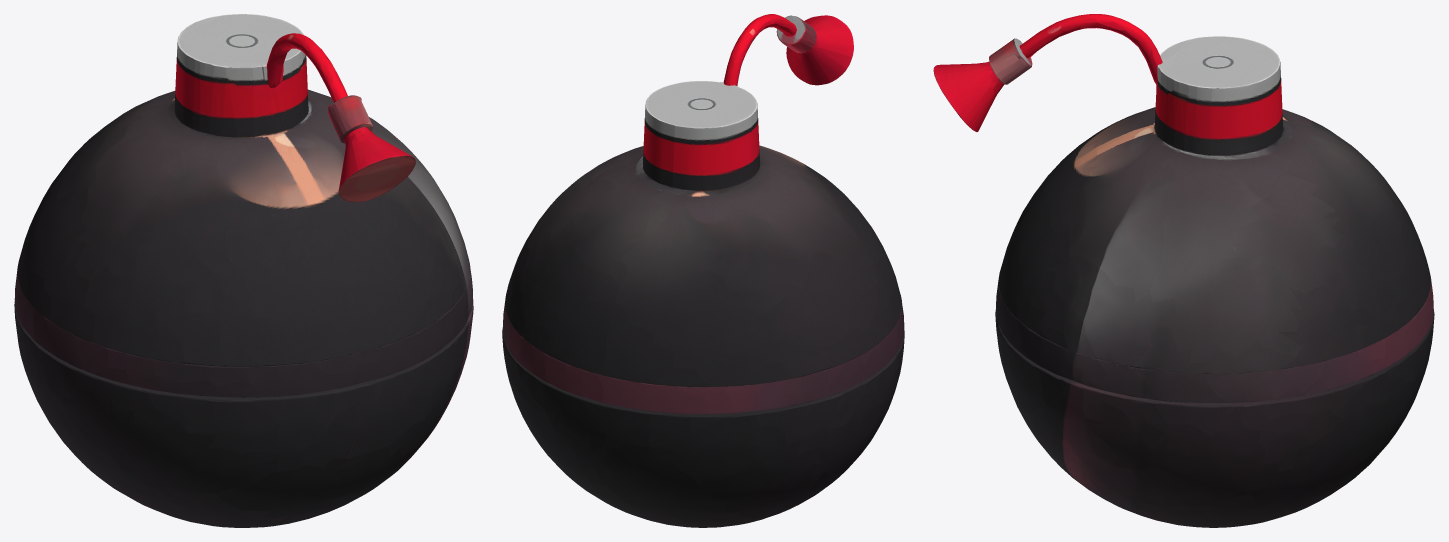
Rendered from bad.glb.
3 views of the same model, side by side, from view 1: azimuth 30°, elevation 25°; view 2: azimuth 150°, elevation 25°; view 3: azimuth 270°, elevation 25° (orthographic). The views are drawn at different scales.
Bounding box in the file's own units: 1.55 × 1.9 × 1.76.
1 material, 1 textured.
